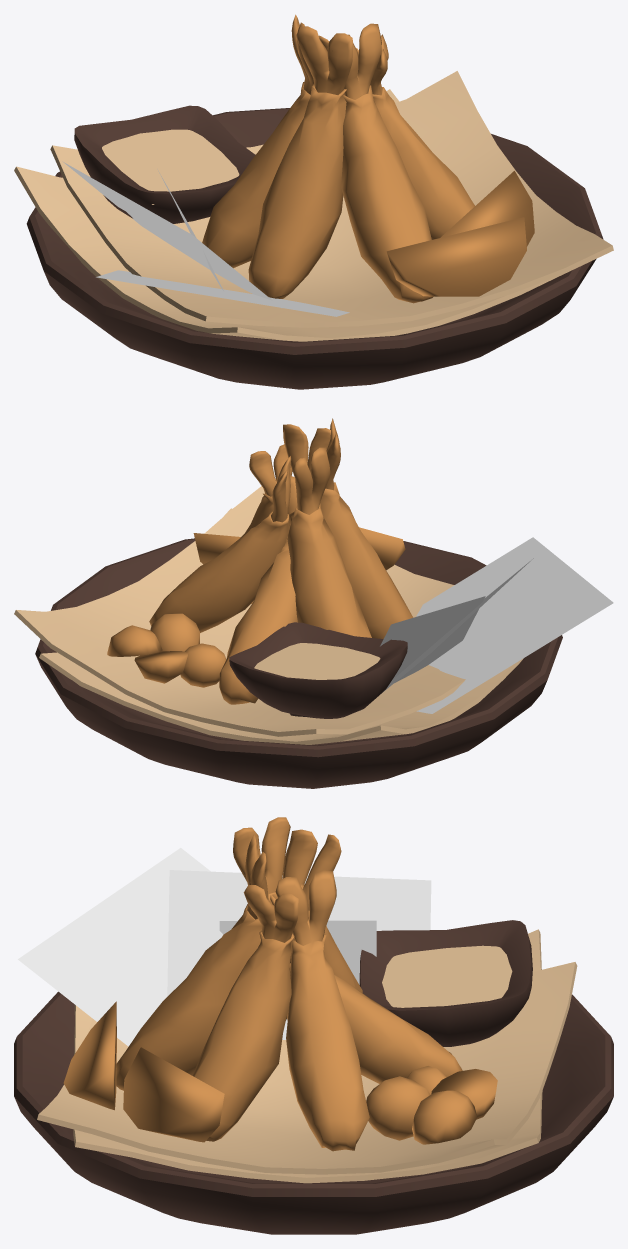
Rendered from Food_Tempuras.fbx.
3 renders of one model, top to bottom at view 1: azimuth 30°, elevation 25°; view 2: azimuth 150°, elevation 25°; view 3: azimuth 270°, elevation 25°, orthographic. The views are drawn at different scales.
Parts seen in each view (by area): view 1: Servilleta_02, Plato, Tempura_04, Tempura_03, Servilleta_01, Tazoncito, Limon_02, Tempura_05, Salsa, Tempura_02, Lechuga_02, Limon_01 (+1 smaller); view 2: Plato, Servilleta_02, Lechuga_01, Tazoncito, Tempura_05, Tempura_01, Servilleta_01, Tempura_04, Tempura_06, Lechuga_03, Salsa, Tempura_02 (+8 smaller); view 3: Plato, Servilleta_02, Lechuga_01, Tempura_01, Tempura_02, Lechuga_02, Tazoncito, Tempura_03, Salsa, Limon_01, Servilleta_01, Tempura_06 (+8 smaller).
Boxes of the visible parts, left/top/right/bottom form: Servilleta_02: left=50, top=71, right=613, bottom=327; Plato: left=26, top=108, right=603, bottom=389; Tempura_04: left=248, top=26, right=352, bottom=298; Tempura_03: left=332, top=23, right=433, bottom=303; Servilleta_01: left=14, top=89, right=563, bottom=341; Tazoncito: left=74, top=105, right=255, bottom=223; Limon_02: left=386, top=217, right=526, bottom=296; Tempura_05: left=202, top=14, right=313, bottom=268; Salsa: left=102, top=129, right=239, bottom=204; Tempura_02: left=370, top=34, right=474, bottom=239; Lechuga_02: left=62, top=161, right=282, bottom=308; Limon_01: left=440, top=171, right=534, bottom=246; Plato: left=35, top=538, right=562, bottom=788; Servilleta_02: left=14, top=486, right=465, bottom=736; Lechuga_01: left=416, top=537, right=613, bottom=713; Tazoncito: left=229, top=622, right=407, bottom=718; Tempura_05: left=287, top=447, right=371, bottom=637; Tempura_01: left=149, top=456, right=291, bottom=632; Servilleta_01: left=39, top=508, right=523, bottom=744; Tempura_04: left=320, top=418, right=412, bottom=638; Tempura_06: left=219, top=475, right=297, bottom=704; Lechuga_03: left=380, top=596, right=485, bottom=682; Salsa: left=254, top=643, right=380, bottom=679; Tempura_02: left=244, top=444, right=292, bottom=603; Plato: left=14, top=991, right=613, bottom=1234; Servilleta_02: left=37, top=962, right=577, bottom=1174; Lechuga_01: left=18, top=848, right=210, bottom=1046; Tempura_01: left=275, top=870, right=369, bottom=1151; Tempura_02: left=192, top=885, right=298, bottom=1141; Lechuga_02: left=167, top=870, right=431, bottom=1039; Tazoncito: left=359, top=920, right=532, bottom=1046; Tempura_03: left=116, top=834, right=268, bottom=1090; Salsa: left=382, top=945, right=512, bottom=1007; Limon_01: left=123, top=1047, right=224, bottom=1142; Servilleta_01: left=73, top=929, right=542, bottom=1183; Tempura_06: left=270, top=895, right=462, bottom=1083.
Bounding box in the file's own units: 69.1 × 39.51 × 63.89.
